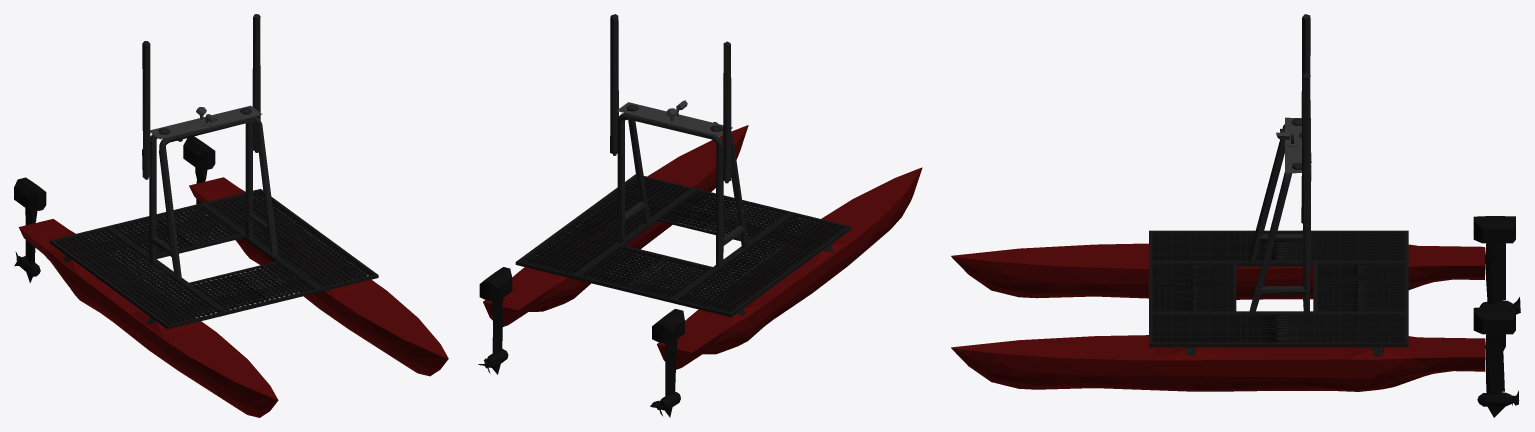
Rendered from ROAZ_II.obj.
3 views of the same model, side by side, from view 1: azimuth 30°, elevation 25°; view 2: azimuth 150°, elevation 25°; view 3: azimuth 270°, elevation 25° (orthographic). The views are drawn at different scales.
Parts seen in each view (by area): view 1: Grid_Cube.002, Hull_ROAZ_II_stampa_torqueedo_LARS.001, Torre_ROAZ_II_stampa_torqueedo_LARS.002, Motores_ROAZ_II_stampa_torqueedo_LARS.003; view 2: Grid_Cube.002, Hull_ROAZ_II_stampa_torqueedo_LARS.001, Torre_ROAZ_II_stampa_torqueedo_LARS.002, Motores_ROAZ_II_stampa_torqueedo_LARS.003; view 3: Hull_ROAZ_II_stampa_torqueedo_LARS.001, Grid_Cube.002, Torre_ROAZ_II_stampa_torqueedo_LARS.002, Motores_ROAZ_II_stampa_torqueedo_LARS.003.
Boxes of the visible parts, x1=… form: Grid_Cube.002: x1=49, y1=189, x2=378, y2=329; Hull_ROAZ_II_stampa_torqueedo_LARS.001: x1=18, y1=177, x2=448, y2=417; Torre_ROAZ_II_stampa_torqueedo_LARS.002: x1=142, y1=14, x2=278, y2=279; Motores_ROAZ_II_stampa_torqueedo_LARS.003: x1=14, y1=136, x2=215, y2=282; Grid_Cube.002: x1=515, y1=174, x2=851, y2=317; Hull_ROAZ_II_stampa_torqueedo_LARS.001: x1=483, y1=125, x2=922, y2=369; Torre_ROAZ_II_stampa_torqueedo_LARS.002: x1=610, y1=14, x2=748, y2=267; Motores_ROAZ_II_stampa_torqueedo_LARS.003: x1=478, y1=267, x2=684, y2=417; Hull_ROAZ_II_stampa_torqueedo_LARS.001: x1=951, y1=243, x2=1484, y2=391; Grid_Cube.002: x1=1149, y1=230, x2=1408, y2=347; Torre_ROAZ_II_stampa_torqueedo_LARS.002: x1=1247, y1=14, x2=1311, y2=314; Motores_ROAZ_II_stampa_torqueedo_LARS.003: x1=1473, y1=216, x2=1520, y2=417.
Size of the model in its own units: 2.2 by 2.87 by 4.53.
